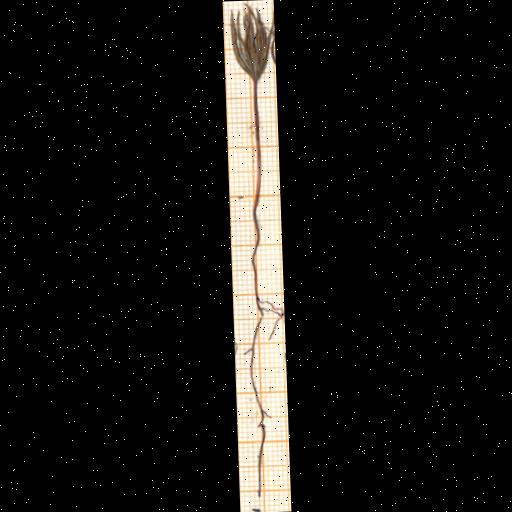flowerPinus: (228, 5, 272, 81)
rootPinus: (244, 201, 282, 495)
stemPinus: (252, 81, 260, 203)
